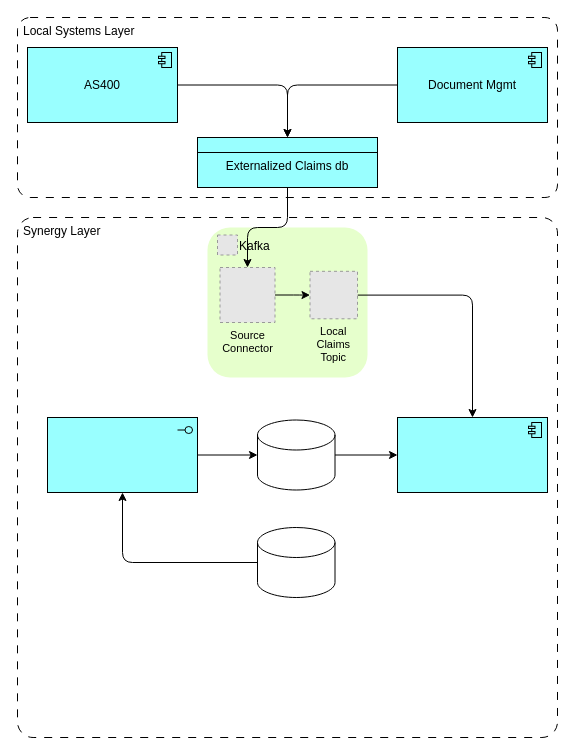
This 575x755 diagram has some shape labels left out. Grey dashed boxes stand in for pictures. Here are the shapes that lost their labels. From the top down, the centre of each, then its label:
At (122,454): "Synergy UI".
At (295,454): "Synergy Config db".
At (472,454): "Synergy Claims Adapter".
At (295,562): "Synergy Claims db".
